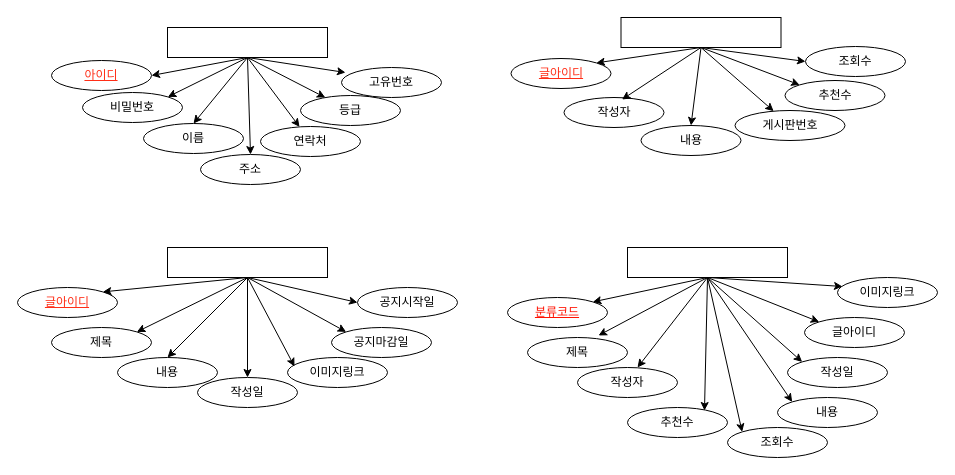
This 955x475 diagram has some shape labels left out. Here are the shapes that lost their labels. From the top down, the centre of each, then its label:
At [247,42]: "회원".
At [700,32]: "이용후기".
At [247,262]: "공지사항".
At [707,262]: "투어".
